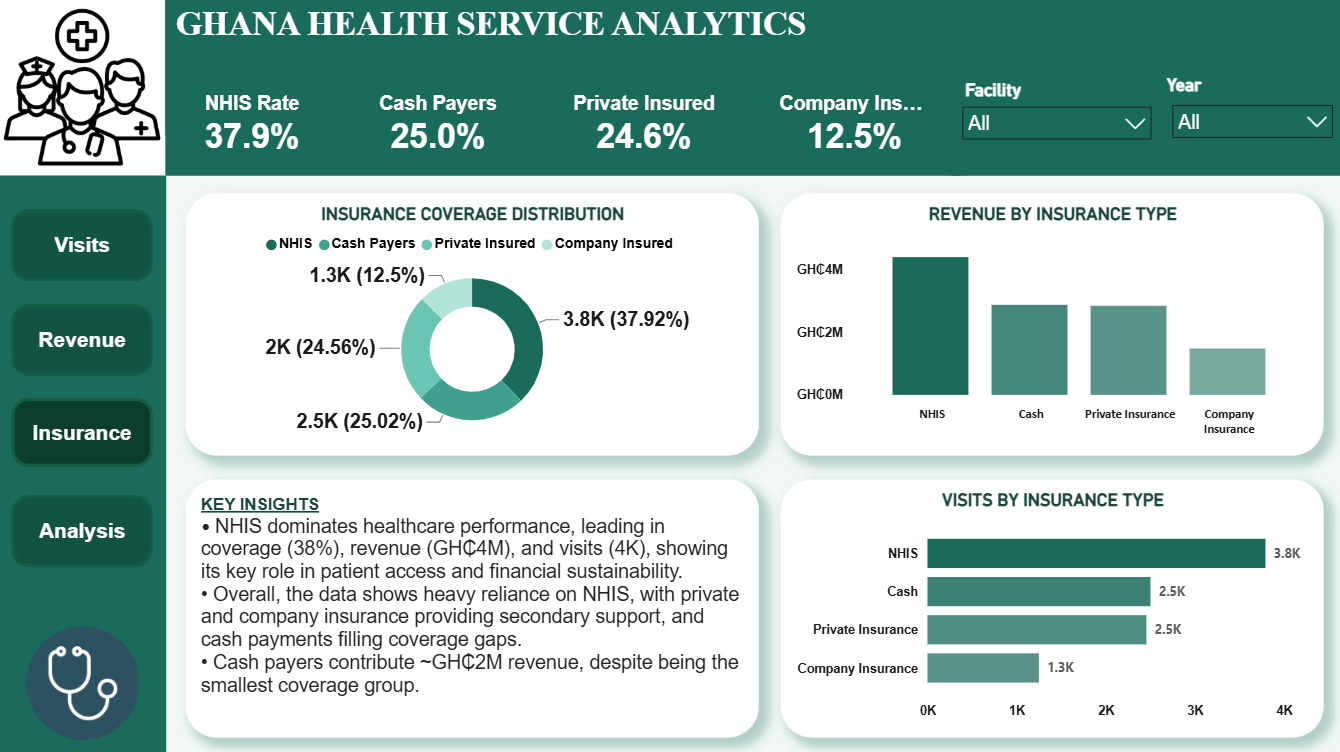

Layout of this report page (visuals, bound fields, positions):
{"tool":"powerbi","page":{"name":" Insurance","canvas":[1280,720],"ordinal":2},"visuals":[{"type":"shape","box":[0,168.1,159.5,552.2],"z":0},{"type":"shape","box":[0,0,1279.8,168.1],"z":1000},{"type":"textbox","box":[158.3,0,1121.4,97.6],"z":2000},{"type":"actionButton","box":[12,200.4,134.6,68.8],"z":3000},{"type":"actionButton","box":[12,379.8,134.6,65.8],"z":4000},{"type":"actionButton","box":[12,290.1,134.6,68.8],"z":5000},{"type":"image","box":[0,0,158.3,168.1],"z":6000},{"type":"actionButton","box":[12,472.5,134.6,68.8],"z":7000},{"type":"donutChart","title":"INSURANCE COVERAGE DISTRIBUTION","fields":{"Y":["Measures (2).NHIS","Measures (2).Cash Payers","Measures (2).Private Insured","Measures (2).Company Insured"]},"box":[177.9,184.1,546,250.3],"z":8000},{"type":"clusteredColumnChart","title":"REVENUE BY INSURANCE TYPE","fields":{"Category":["Patient Visits.Insurance_Type"],"Y":["Measures (2).Total Revenue"]},"box":[743.6,184.1,517.8,250.3],"z":9000},{"type":"textbox","box":[177.4,457.1,546.4,246.4],"z":10000},{"type":"clusteredBarChart","title":"VISITS BY INSURANCE TYPE","fields":{"Category":["Patient Visits.Insurance_Type"],"Y":["Measures (2).Total Visits"]},"box":[744,457.1,517.9,246.4],"z":11000},{"type":"cardVisual","fields":{"Data":["Measures (2).Private Insured Rate"]},"box":[514.1,71.2,200,96.9],"z":12000},{"type":"cardVisual","fields":{"Data":["Measures (2).Company Insured Rate"]},"box":[714.1,71.2,201.2,96.9],"z":13000},{"type":"cardVisual","fields":{"Data":["Measures (2).NHIS Rate"]},"box":[159.5,71.2,163.2,96.9],"z":14000},{"type":"cardVisual","fields":{"Data":["Measures (2).Cash Payers Rate"]},"box":[322.7,71.2,191.4,96.9],"z":15000},{"type":"image","box":[9,598.1,140.6,107.7],"z":16000},{"type":"slicer","title":"Year","fields":{"Values":["YearTable.Year"]},"box":[1106.8,71.2,173,96.9],"z":17000},{"type":"slicer","fields":{"Values":["Facility Directory.Facility_Name"]},"box":[906.8,71.2,200,96.9],"z":18000}]}

Visuals, with their boxes in screenshot pixels (x1, y1, x2, y2), scaled from the page's 1280x720 canvas onto the 1340x752 screenshot:
shape: x1=0 y1=176 x2=167 y2=751
shape: x1=0 y1=0 x2=1339 y2=176
textbox: x1=166 y1=0 x2=1339 y2=102
actionButton: x1=13 y1=209 x2=153 y2=281
actionButton: x1=13 y1=397 x2=153 y2=465
actionButton: x1=13 y1=303 x2=153 y2=375
image: x1=0 y1=0 x2=166 y2=176
actionButton: x1=13 y1=494 x2=153 y2=565
"INSURANCE COVERAGE DISTRIBUTION" donutChart: x1=186 y1=192 x2=758 y2=454
"REVENUE BY INSURANCE TYPE" clusteredColumnChart: x1=778 y1=192 x2=1321 y2=454
textbox: x1=186 y1=477 x2=758 y2=735
"VISITS BY INSURANCE TYPE" clusteredBarChart: x1=779 y1=477 x2=1321 y2=735
cardVisual - Measures (2).Private Insured Rate: x1=538 y1=74 x2=748 y2=176
cardVisual - Measures (2).Company Insured Rate: x1=748 y1=74 x2=958 y2=176
cardVisual - Measures (2).NHIS Rate: x1=167 y1=74 x2=338 y2=176
cardVisual - Measures (2).Cash Payers Rate: x1=338 y1=74 x2=538 y2=176
image: x1=9 y1=625 x2=157 y2=737
"Year" slicer: x1=1159 y1=74 x2=1339 y2=176
slicer - Facility Directory.Facility_Name: x1=949 y1=74 x2=1159 y2=176
